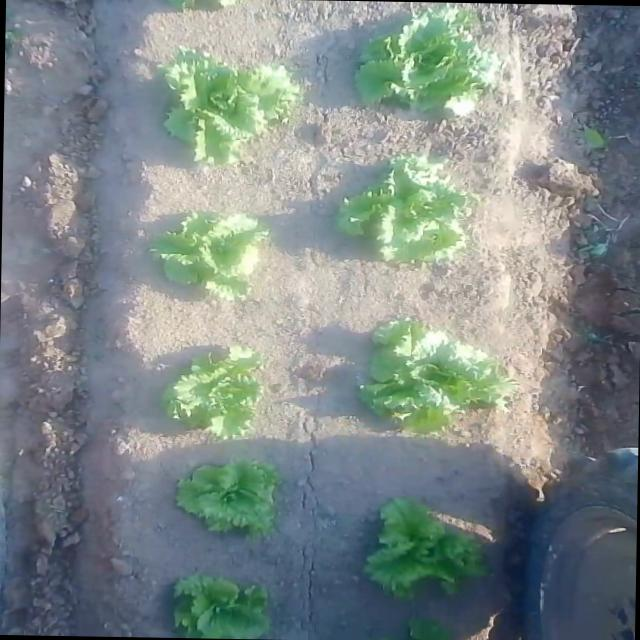Lettuce-Ready-to-Harvest: (376, 322, 502, 426)
